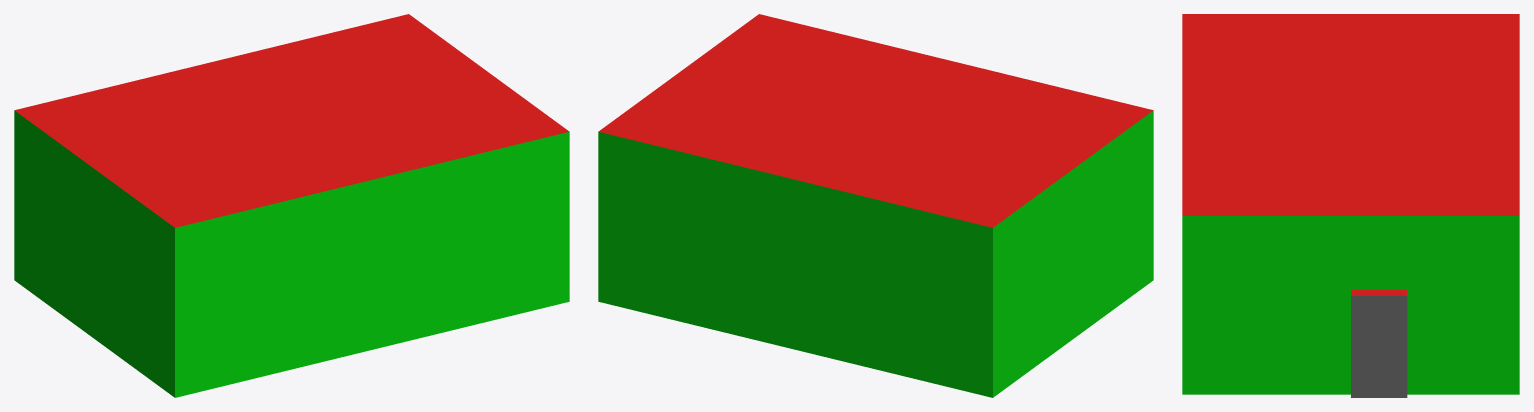
File: Nursery_DiningRoomMesh.gltf
The picture shows the model from 3 angles, left to right: view 1: azimuth 30°, elevation 25°; view 2: azimuth 150°, elevation 25°; view 3: azimuth 270°, elevation 25°; orthographic projection. The views are drawn at different scales.
Parts seen in each view (by area): view 1: Nursery_DiningRoomMesh2; view 2: Nursery_DiningRoomMesh2; view 3: Nursery_DiningRoomMesh2.
Boxes of the visible parts, x1,y1,x2,y2 form: Nursery_DiningRoomMesh2: (14,14,569,397); Nursery_DiningRoomMesh2: (598,14,1153,397); Nursery_DiningRoomMesh2: (1182,14,1519,397).
Bounding box in the file's own units: 17.5 × 7 × 12.
